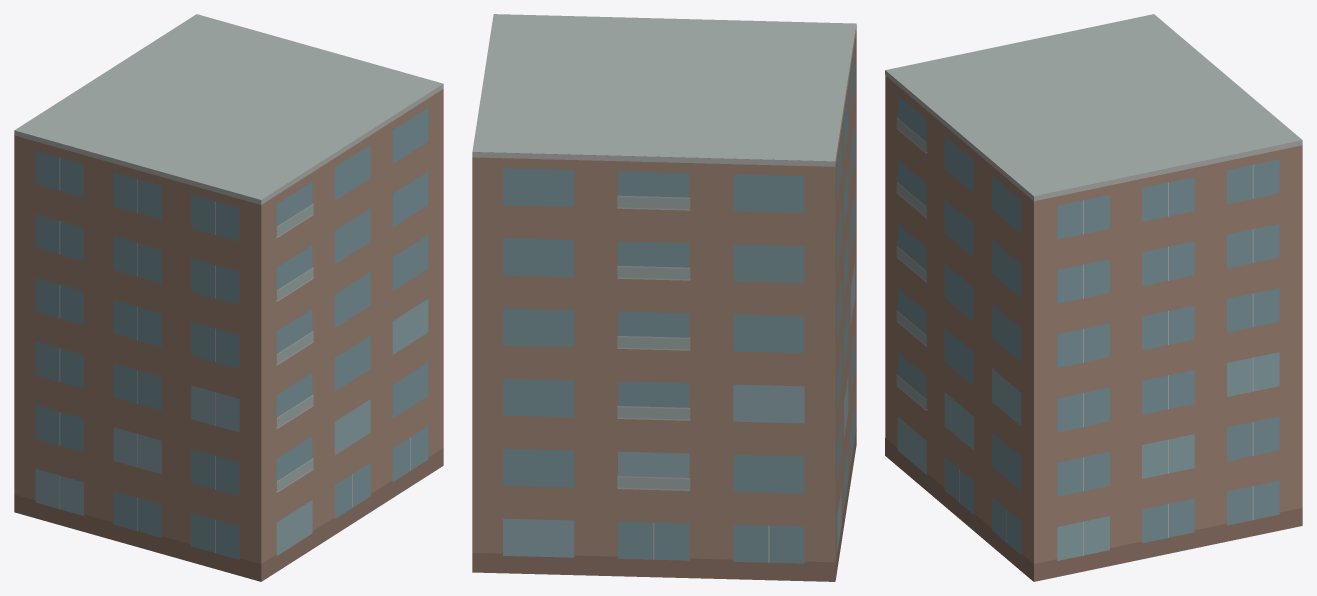
File: survey-upis-32903937.glb
3 renders of one model, left to right at view 1: azimuth 30°, elevation 25°; view 2: azimuth 150°, elevation 25°; view 3: azimuth 270°, elevation 25°, orthographic. The views are drawn at different scales.
Visible parts, largest first — view 1: survey-upis-32903937.tmp; view 2: survey-upis-32903937.tmp; view 3: survey-upis-32903937.tmp.
Boxes of the visible parts, bbox=[...] form: survey-upis-32903937.tmp: bbox=[14, 14, 443, 581]; survey-upis-32903937.tmp: bbox=[472, 14, 856, 581]; survey-upis-32903937.tmp: bbox=[885, 14, 1302, 581].
Bounding box in the file's own units: 18.97 × 18.7 × 18.36.
